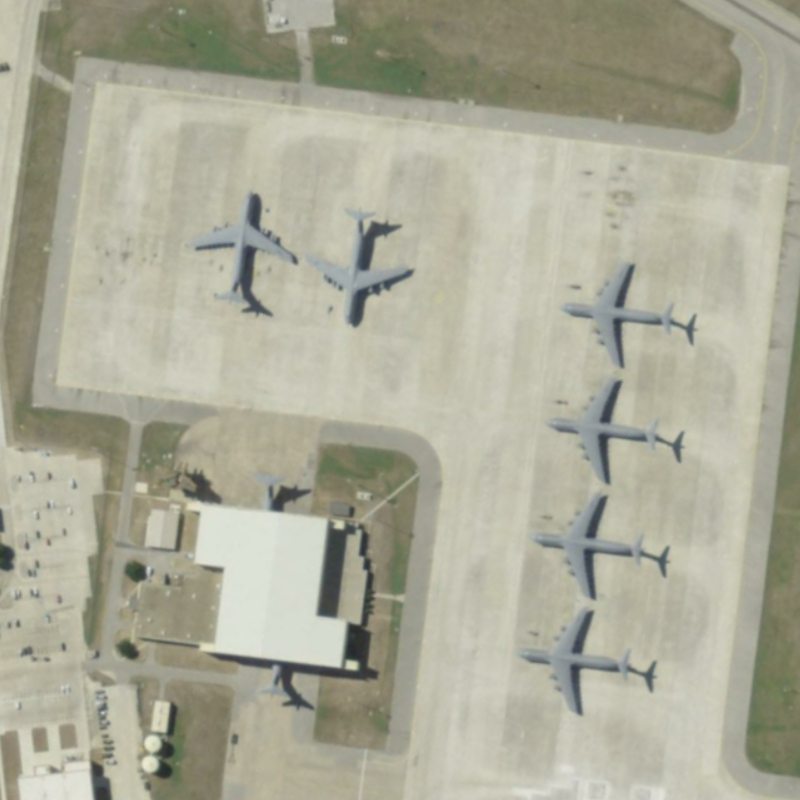A4: (523, 483, 654, 604), (553, 253, 683, 373), (511, 603, 641, 722), (301, 203, 416, 333), (539, 372, 665, 487), (191, 180, 300, 312)
